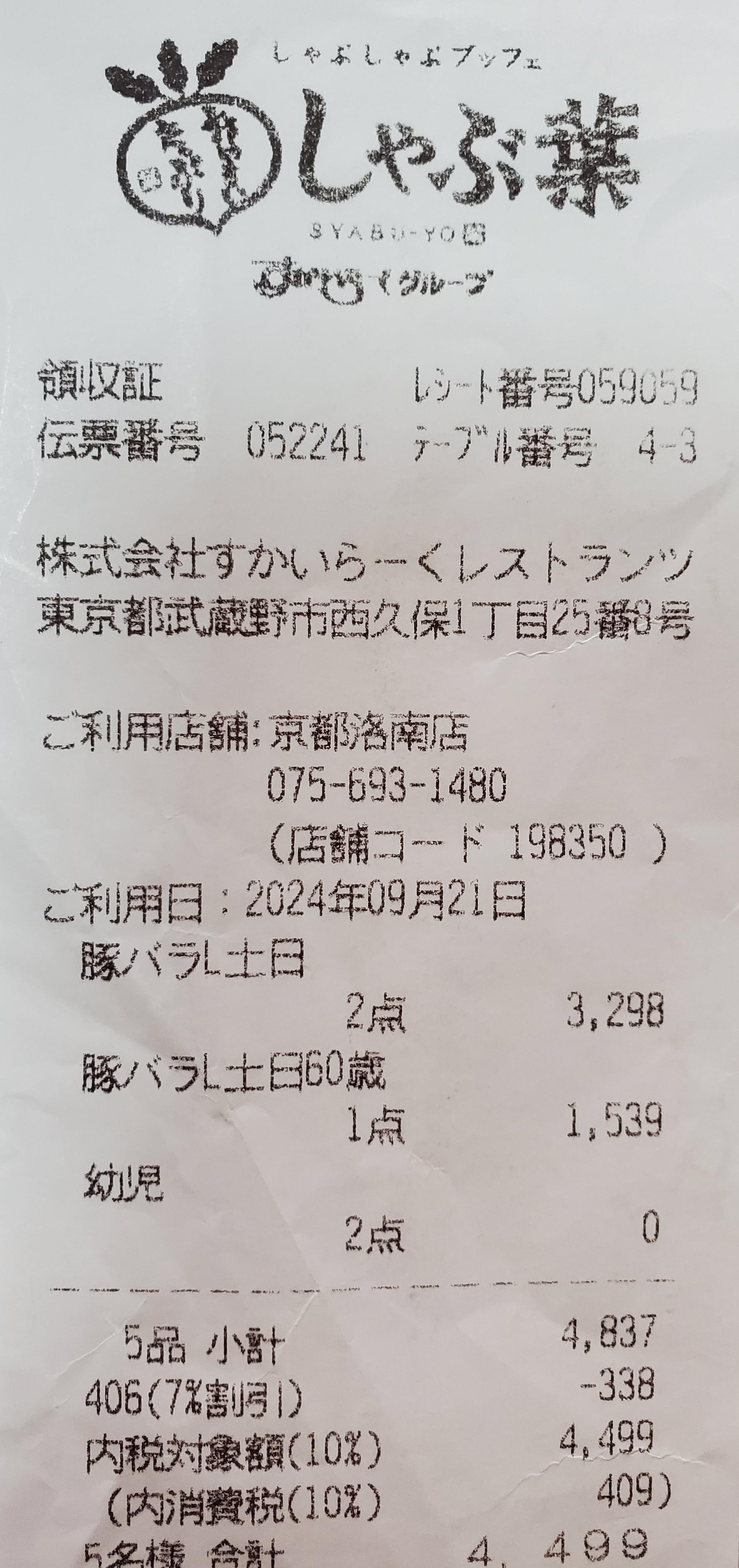TEL: (260, 759, 520, 810)
date: (243, 869, 543, 919)
total: (462, 1524, 654, 1568)
